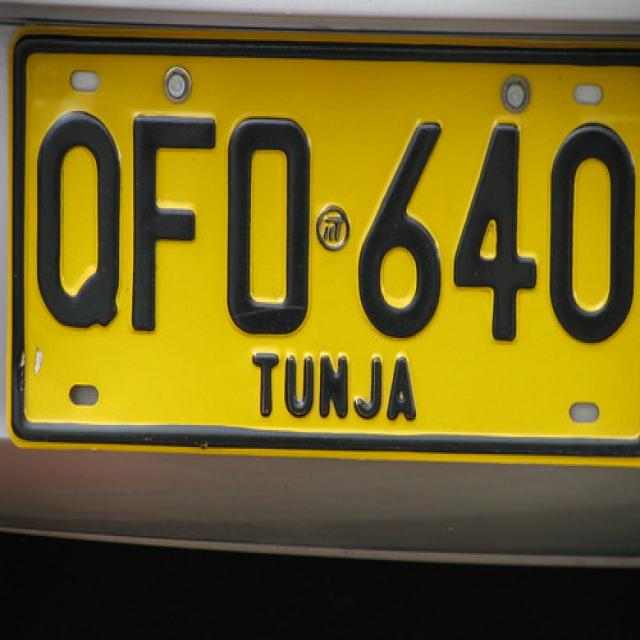placas: (14, 32, 639, 348)
